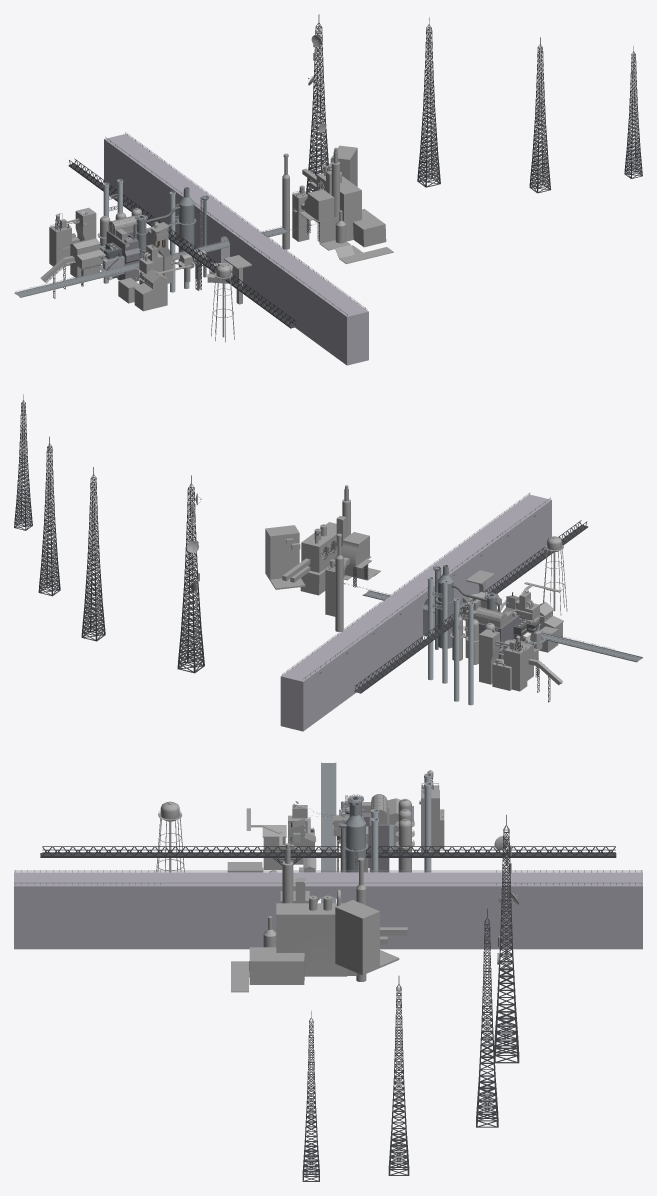
Rendered from modelWIP02.fbx.
3 views of the same model, one above another, from view 1: azimuth 30°, elevation 25°; view 2: azimuth 150°, elevation 25°; view 3: azimuth 270°, elevation 25° (orthographic). The views are drawn at different scales.
Visible parts, largest first — view 1: wallBridge, bridgeScaffolding05, factoryBlockout, bridgeScaffolding06, bridgeScaffolding04, bridgeScaffolding07, mainBridge1, smallRoundTowerTank3, chamberPlatform, pCube115, pCube138, bottomScaffoldingBridge (+14 smaller); view 2: wallBridge, bridgeScaffolding04, bridgeScaffolding05, bridgeScaffolding06, factoryBlockout, tiltedFactoryBuilding, bridgeScaffolding07, pCube117, smokeStacks1, smokeStacks, bottomScaffoldingBridge, smallRoundTowerTank3 (+11 smaller); view 3: wallBridge, factoryBlockout, bridgeScaffolding04, tiltedFactoryBuilding, scaffoldingBridgeSide1, bridgeScaffolding05, bottomScaffoldingBridge, scaffoldingBridgeSide, bridgeScaffolding06, mainBridge1, bridgeScaffolding07, smallRoundTowerTank3 (+10 smaller).
Boxes of the visible parts, bbox=[...] form: wallBridge: bbox=[104, 134, 368, 365]; bridgeScaffolding05: bbox=[417, 17, 440, 187]; factoryBlockout: bbox=[316, 173, 386, 247]; bridgeScaffolding06: bbox=[529, 37, 551, 193]; bridgeScaffolding04: bbox=[306, 14, 328, 194]; bridgeScaffolding07: bbox=[624, 46, 642, 178]; mainBridge1: bbox=[14, 227, 288, 297]; smallRoundTowerTank3: bbox=[135, 187, 196, 268]; chamberPlatform: bbox=[319, 216, 393, 263]; pCube115: bbox=[45, 238, 104, 283]; pCube138: bbox=[133, 269, 168, 311]; bottomScaffoldingBridge: bbox=[68, 164, 297, 328]; wallBridge: bbox=[280, 494, 551, 731]; bridgeScaffolding04: bbox=[177, 475, 204, 673]; bridgeScaffolding05: bbox=[81, 467, 105, 641]; bridgeScaffolding06: bbox=[38, 436, 60, 596]; factoryBlockout: bbox=[300, 522, 345, 595]; tiltedFactoryBuilding: bbox=[265, 525, 299, 579]; bridgeScaffolding07: bbox=[14, 394, 32, 530]; pCube117: bbox=[492, 640, 527, 691]; smokeStacks1: bbox=[453, 598, 473, 705]; smokeStacks: bbox=[427, 577, 447, 683]; bottomScaffoldingBridge: bbox=[354, 525, 588, 693]; smallRoundTowerTank3: bbox=[435, 565, 498, 648]; wallBridge: bbox=[14, 872, 642, 949]; factoryBlockout: bbox=[249, 903, 347, 984]; bridgeScaffolding04: bbox=[494, 814, 519, 1063]; tiltedFactoryBuilding: bbox=[335, 900, 379, 973]; scaffoldingBridgeSide1: bbox=[42, 849, 615, 856]; bridgeScaffolding05: bbox=[476, 908, 498, 1127]; bottomScaffoldingBridge: bbox=[40, 853, 616, 857]; scaffoldingBridgeSide: bbox=[42, 846, 615, 853]; bridgeScaffolding06: bbox=[388, 976, 409, 1175]; mainBridge1: bbox=[321, 762, 336, 903]; bridgeScaffolding07: bbox=[302, 1011, 319, 1181]; smallRoundTowerTank3: bbox=[345, 796, 368, 872].
Size of the model in its own units: 407 by 121 by 278.
